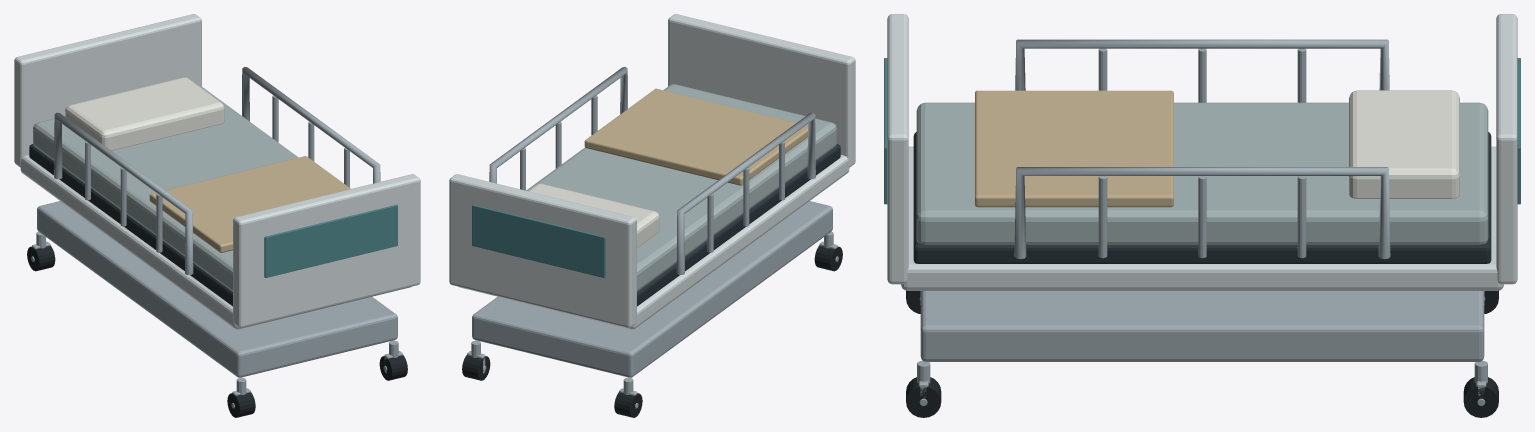
The model's file is RD_LivingBed.fbx.
The picture shows the model from 3 angles, left to right: view 1: azimuth 30°, elevation 25°; view 2: azimuth 150°, elevation 25°; view 3: azimuth 270°, elevation 25°; orthographic projection. The views are drawn at different scales.
Parts seen in each view (by area): view 1: RD_LivingBed; view 2: RD_LivingBed; view 3: RD_LivingBed.
Part boxes in pixels (x1,y1,x2,y2): RD_LivingBed: (14,14,420,417); RD_LivingBed: (449,14,855,417); RD_LivingBed: (884,14,1520,417).
Size of the model in its own units: 110 by 111 by 224.
